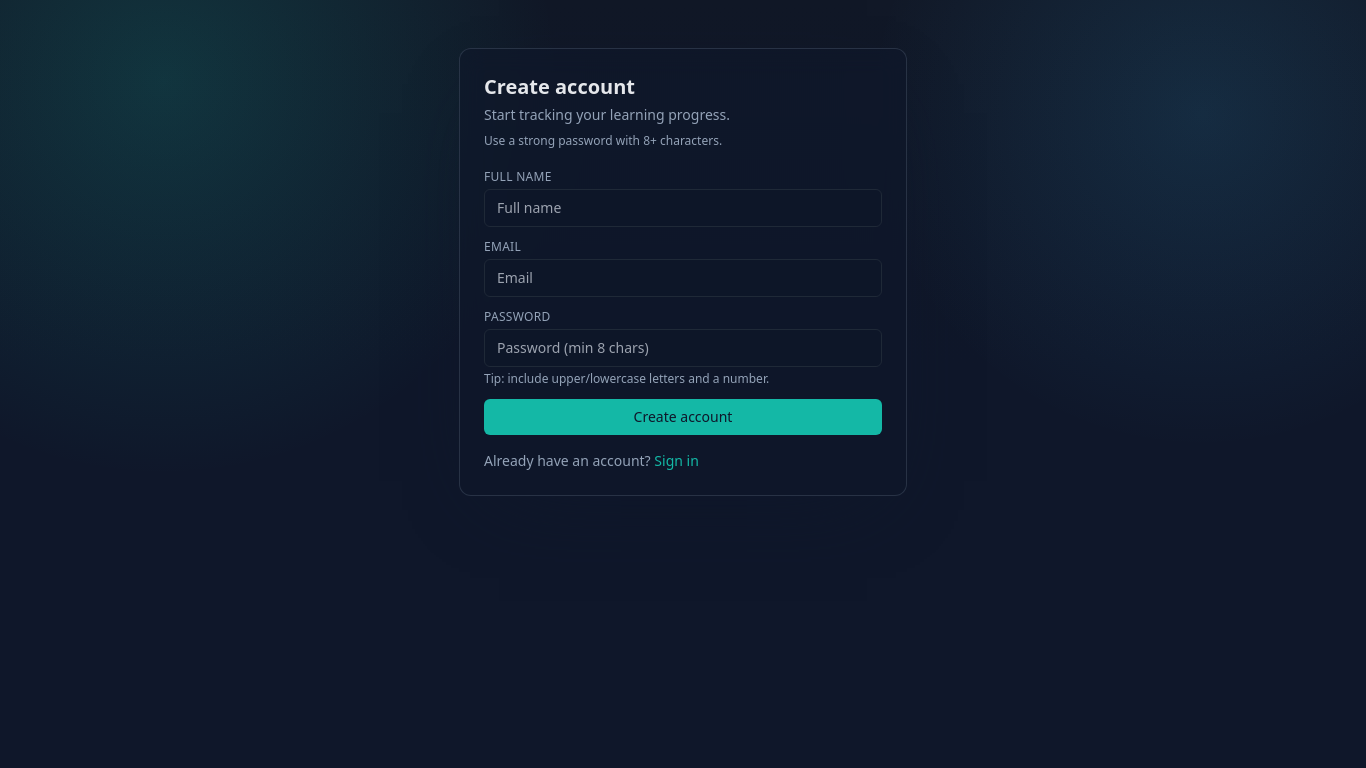
Frontend auth integration › registers successfully and loads dashboard
The width and height of the screenshot is (1366, 768).
Type "New User" into the field with placeholder "Full name".
click(683, 208); type("New User")  # box x1=484 y1=189 x2=882 y2=227
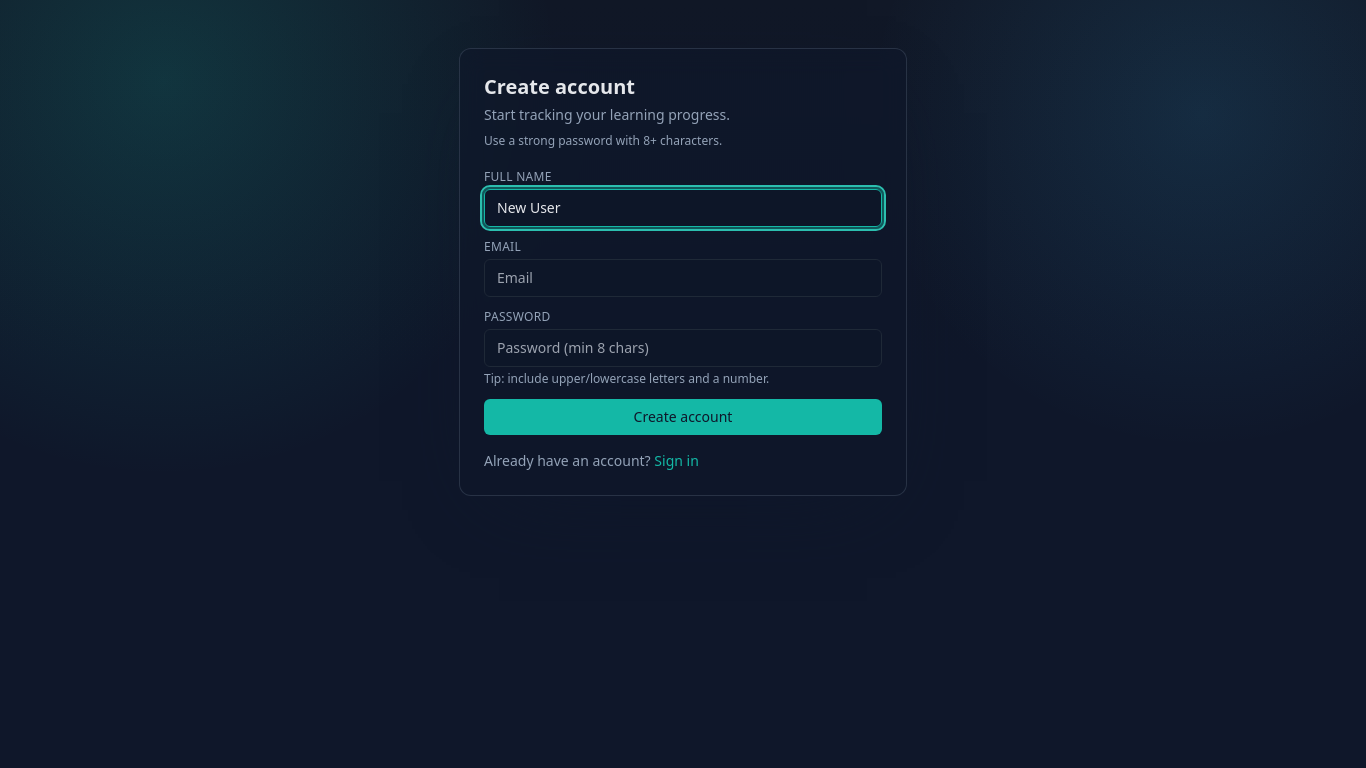
Type "new@example.com" into the field with placeholder "Email".
click(683, 278); type("new@example.com")  # box x1=484 y1=259 x2=882 y2=297
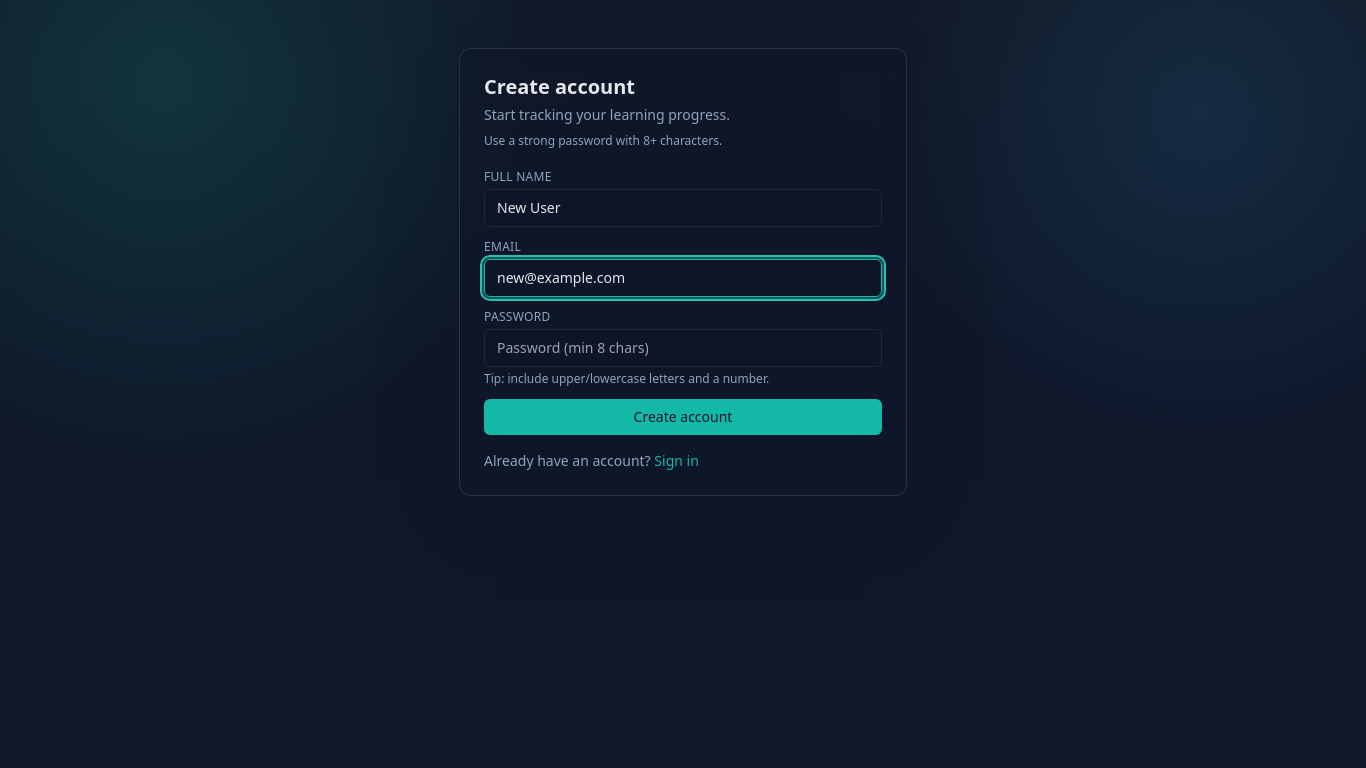
Type "StrongPass123" into the password field with placeholder "Password (min 8 chars)".
click(683, 348); type("StrongPass123")  # box x1=484 y1=329 x2=882 y2=367
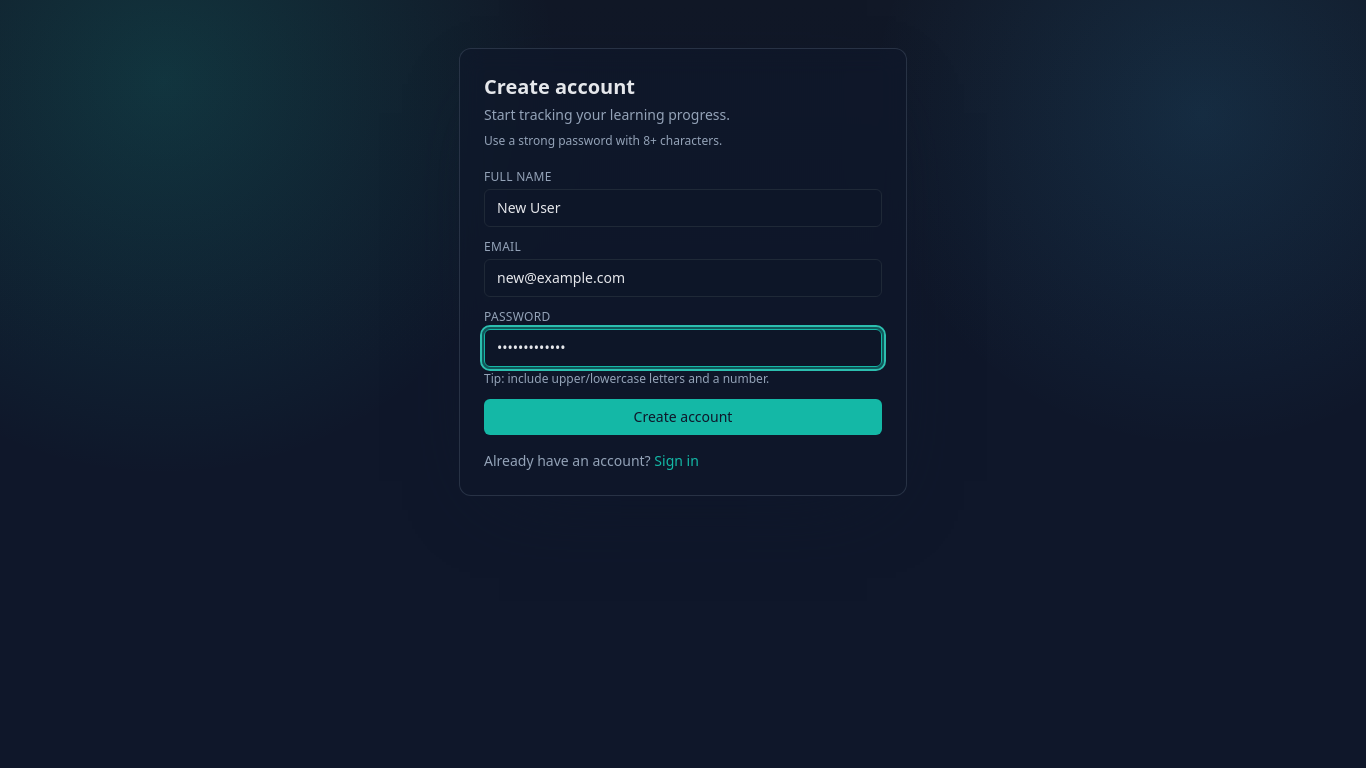
Click the button "Create account".
click(683, 417)  # box x1=484 y1=399 x2=882 y2=435
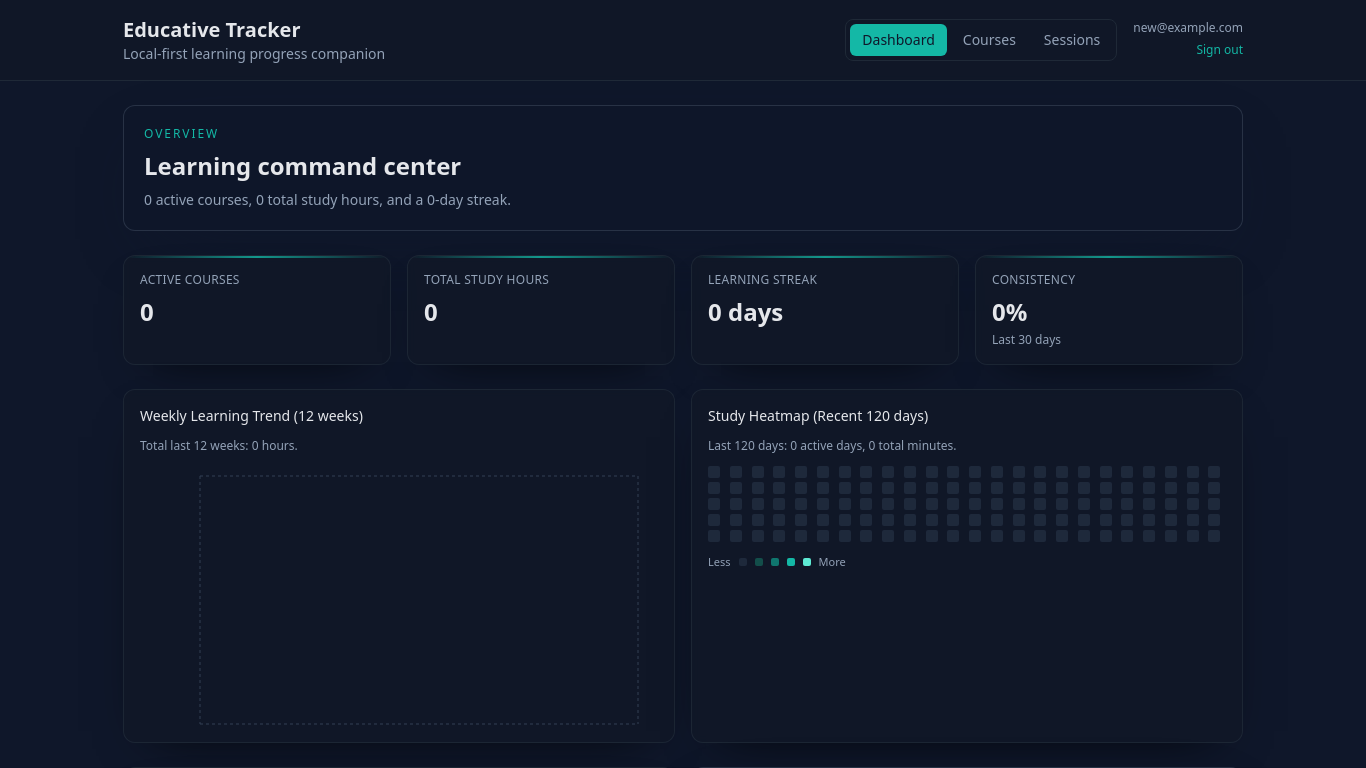
Result: the text "new@example.com" is shown at x1=1133 y1=20 x2=1243 y2=36
